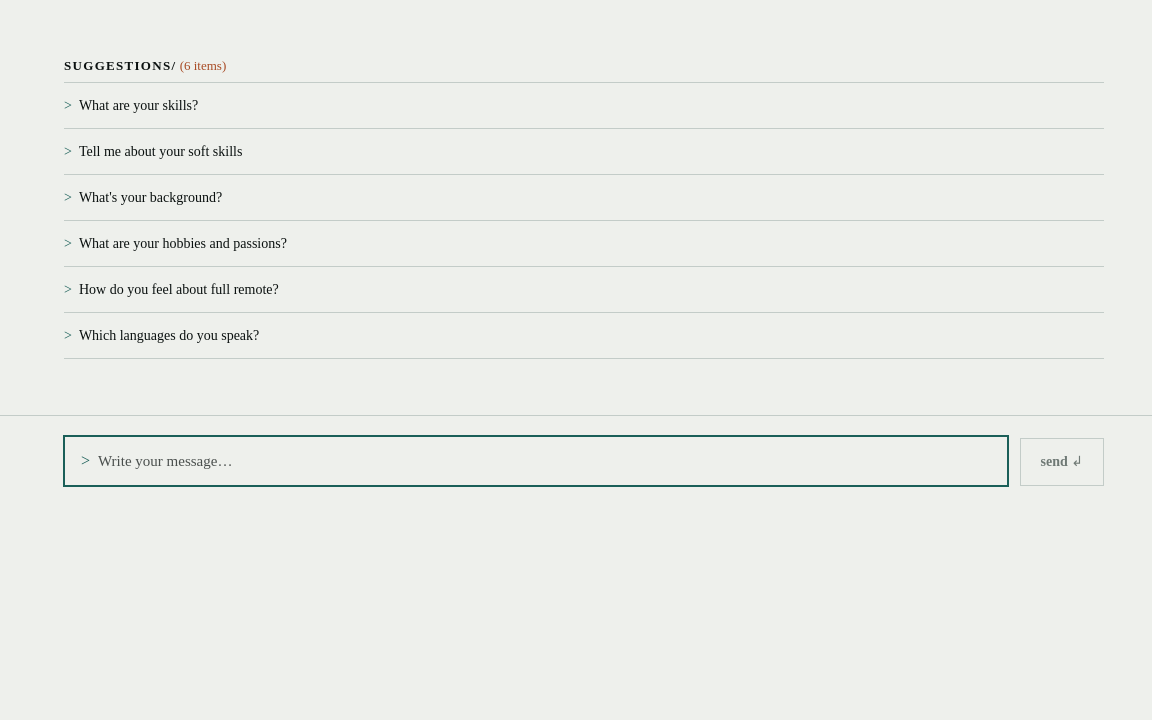
Test: ChatInterface › Langue de l'interface › traduit le message d'erreur de streaming
Type "Hello" into the text box named "Message to send".
click(544, 460); type("Hello")  # box [98, 448, 990, 472]
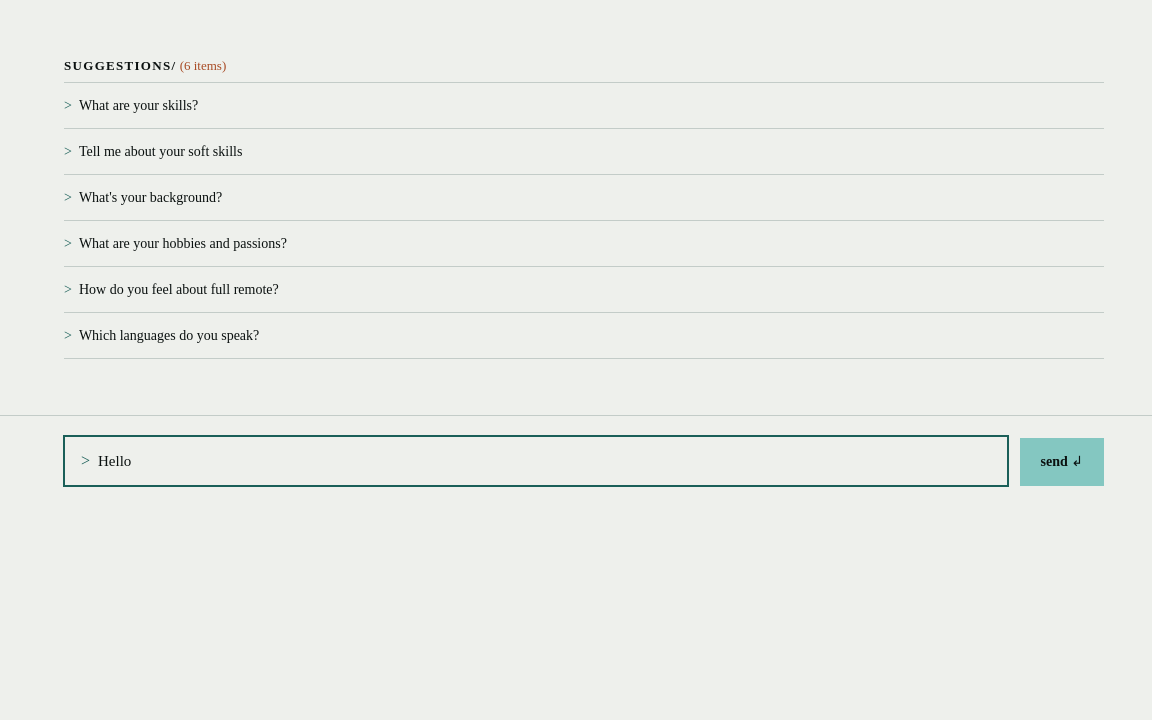
Click the button "send ↲".
click(1062, 462)  # box [1020, 438, 1104, 486]
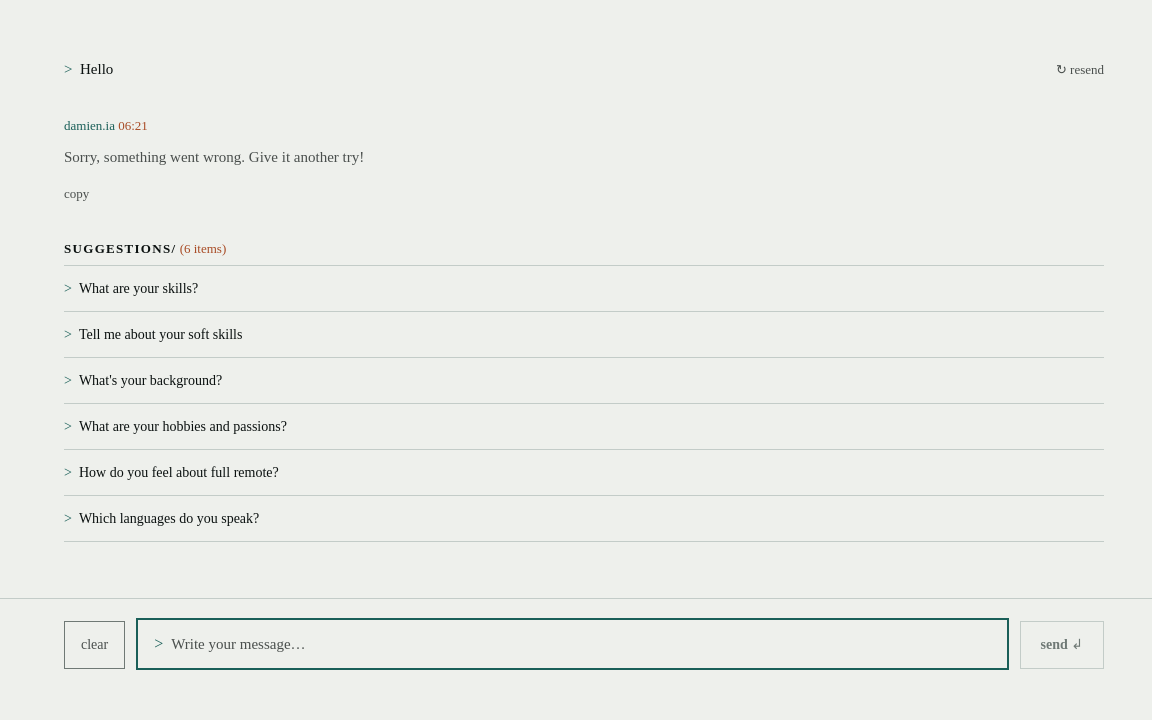
expect the text "Sorry, something went wrong. Give it another try!" is shown: met, box [64, 149, 364, 165]
